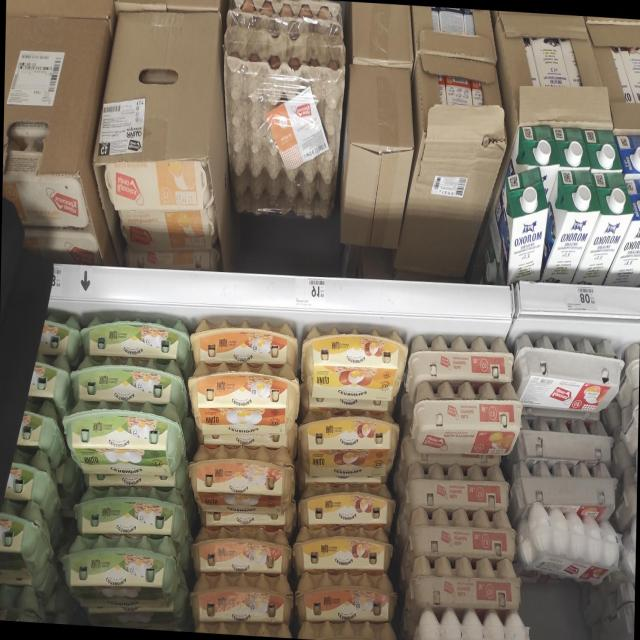organic waste: (60, 398, 186, 480), (60, 532, 182, 614), (409, 378, 523, 461), (512, 332, 623, 416), (186, 360, 300, 439), (300, 321, 408, 404), (187, 440, 296, 518), (298, 408, 401, 481), (412, 553, 522, 613), (73, 484, 190, 540), (408, 504, 518, 559), (70, 354, 185, 406), (189, 569, 293, 626), (407, 331, 515, 384), (404, 460, 511, 513), (192, 315, 300, 367), (293, 570, 397, 624), (189, 522, 292, 576), (81, 314, 190, 361), (296, 480, 398, 530), (292, 524, 394, 574), (0, 501, 54, 582), (4, 449, 58, 503), (89, 604, 181, 631), (28, 350, 72, 404), (14, 402, 60, 451), (186, 619, 296, 638), (40, 313, 81, 363), (296, 620, 402, 639), (0, 585, 48, 623)
